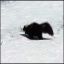skunk: (21, 22, 54, 41)
